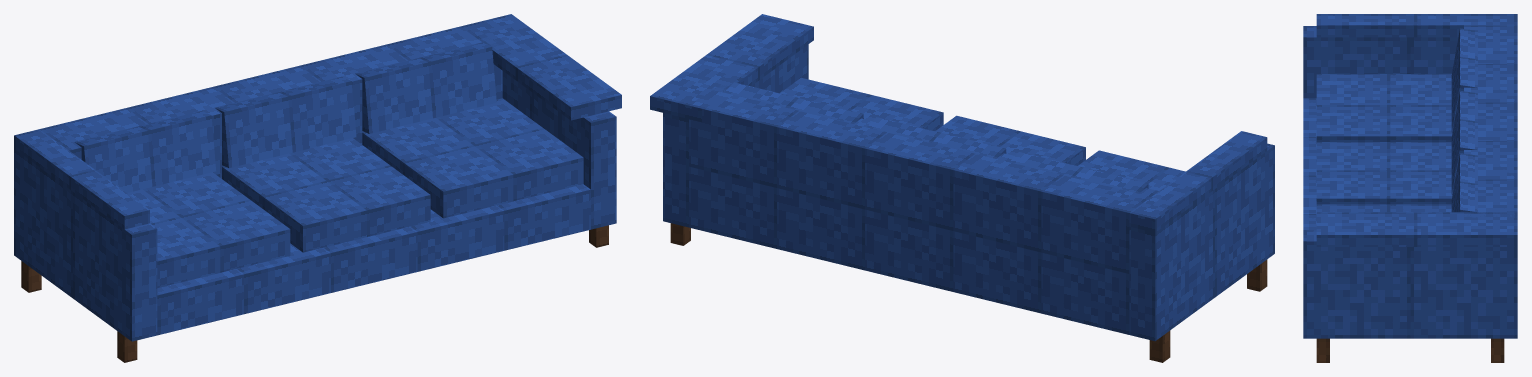
File: loungeCouchWide_9.glb
3 renders of one model, left to right at view 1: azimuth 30°, elevation 25°; view 2: azimuth 150°, elevation 25°; view 3: azimuth 270°, elevation 25°, orthographic. The views are drawn at different scales.
Parts seen in each view (by area): view 1: loungeCouchWide_9; view 2: loungeCouchWide_9; view 3: loungeCouchWide_9.
Boxes of the visible parts, x1,y1,x2,y2 form: loungeCouchWide_9: (14,14,621,362); loungeCouchWide_9: (650,14,1274,362); loungeCouchWide_9: (1303,14,1517,362).
Bounding box in the file's own units: 2.44 × 0.7008 × 1.
1 material, 1 textured.
